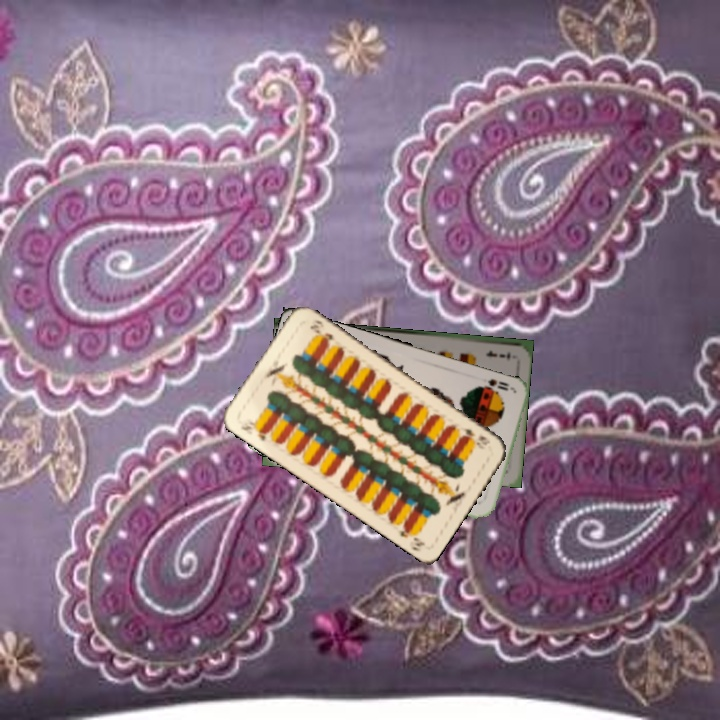E10: (236, 417, 271, 444), (457, 423, 493, 448)
E7: (483, 346, 512, 361)
SO: (474, 375, 515, 395)
